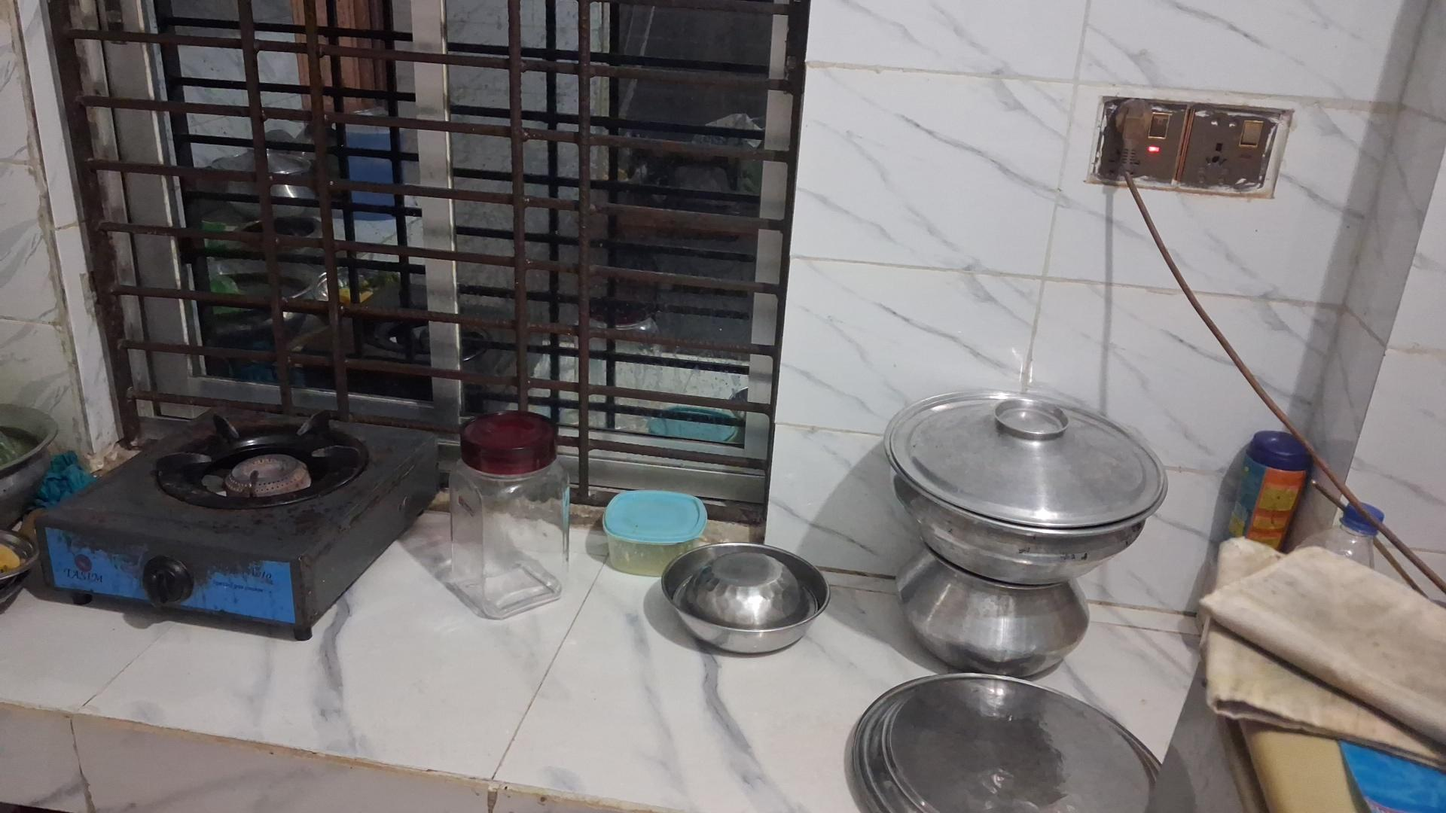Bowl: (661, 541, 830, 656)
Jar: (447, 414, 573, 617), (1227, 431, 1311, 551), (602, 488, 709, 575)
Plate: (848, 675, 1165, 813)
Pot: (888, 381, 1170, 586), (897, 544, 1084, 681)
Window: (46, 3, 807, 499)
